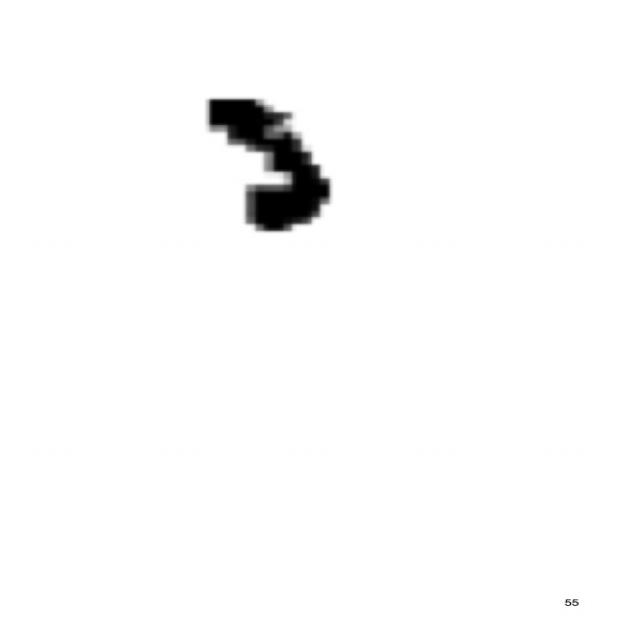0 -zero-: (191, 84, 344, 245)
